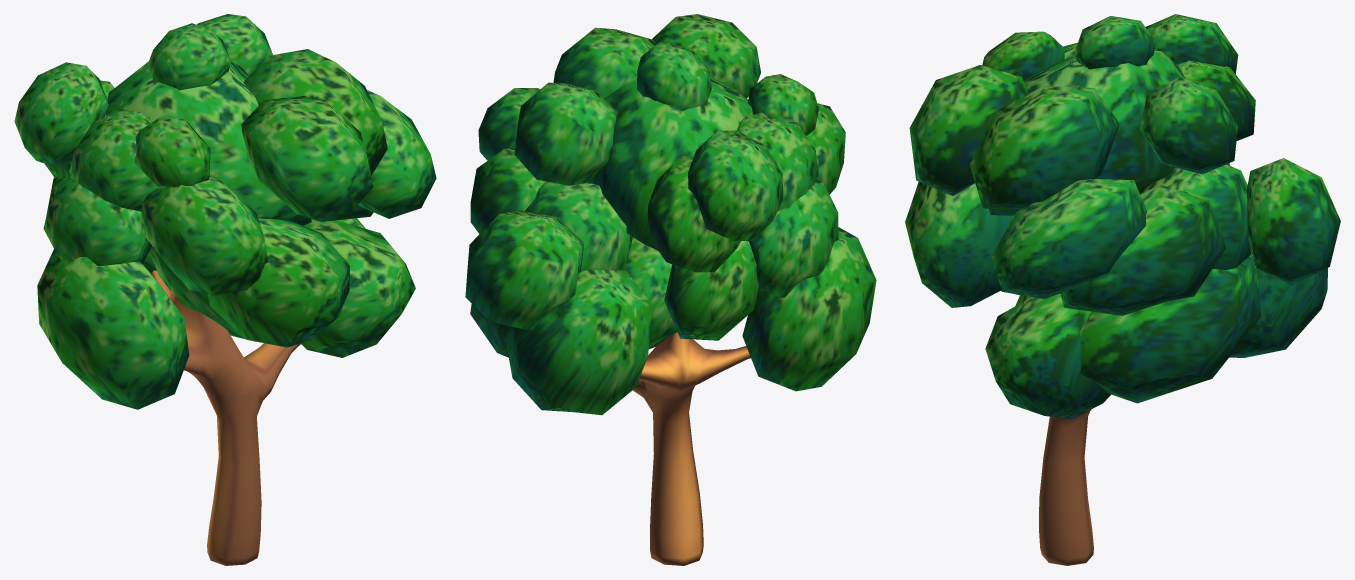
The model's file is tree.glb.
3 renders of one model, left to right at view 1: azimuth 30°, elevation 25°; view 2: azimuth 150°, elevation 25°; view 3: azimuth 270°, elevation 25°, orthographic. The views are drawn at different scales.
Visible parts, largest first — view 1: Cube.004; view 2: Cube.004; view 3: Cube.004.
Part boxes in pixels (x1,y1,x2,y2): Cube.004: (14, 14, 436, 565); Cube.004: (465, 14, 876, 565); Cube.004: (905, 14, 1340, 565).
Bounding box in the file's own units: 2.75 × 3.71 × 2.77.
1 material, 1 textured.
